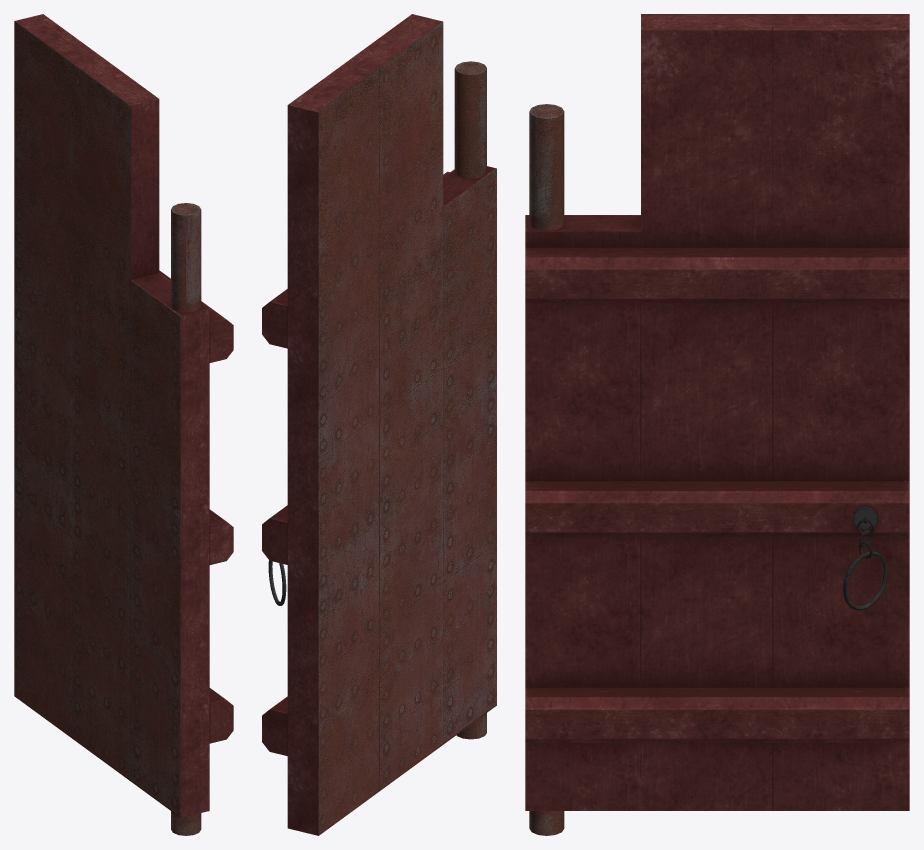
Rendered from SM_Castle_Door02a.fbx.
3 renders of one model, left to right at view 1: azimuth 30°, elevation 25°; view 2: azimuth 150°, elevation 25°; view 3: azimuth 270°, elevation 25°, orthographic. The views are drawn at different scales.
Visible parts, largest first — view 1: SM_Castle_Door02a; view 2: SM_Castle_Door02a; view 3: SM_Castle_Door02a.
Boxes of the visible parts, x1,y1,x2,y2 form: SM_Castle_Door02a: (14, 14, 233, 835); SM_Castle_Door02a: (262, 14, 496, 835); SM_Castle_Door02a: (525, 14, 909, 835).
Size of the model in its own units: 19.96 by 77.12 by 178.
Materials: 1 (1 with a texture image).
